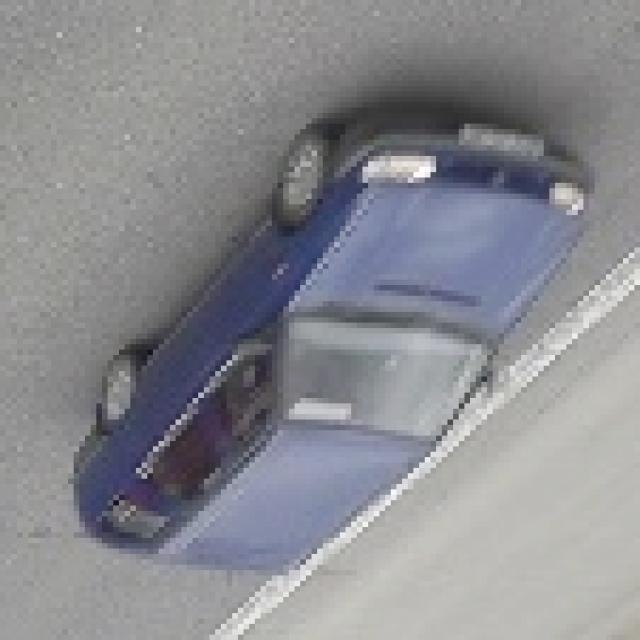blue: (82, 111, 589, 583)
